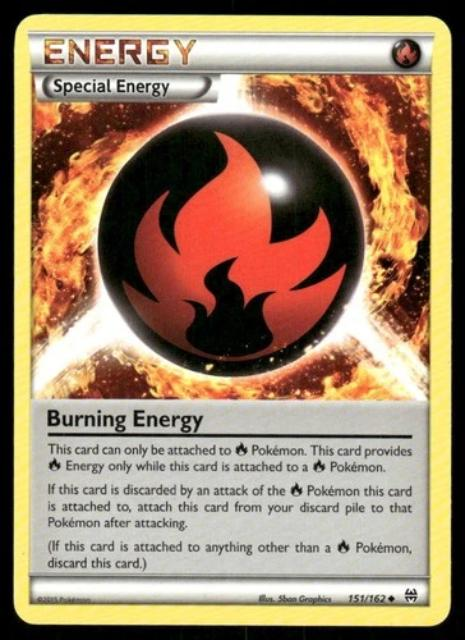Card: (7, 9, 457, 632)
Name: (40, 407, 215, 435)
